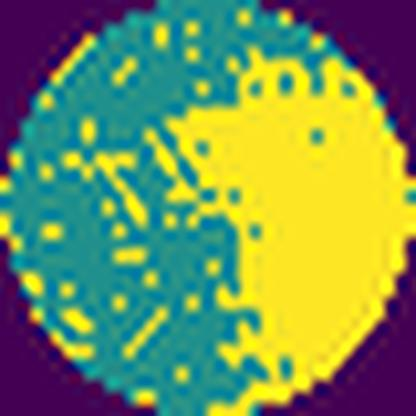Edge-Loc: (165, 46, 416, 416)
